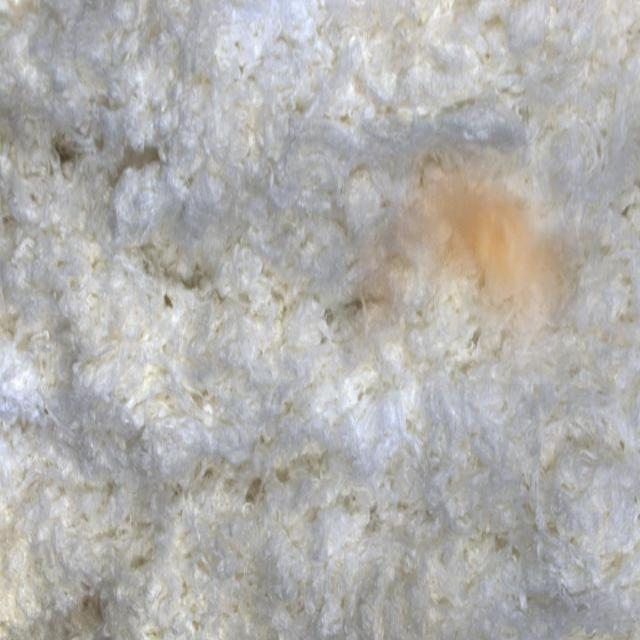dust: (347, 139, 601, 384)
